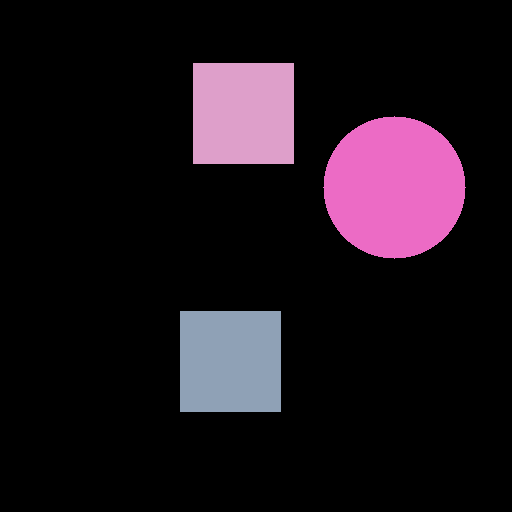circle: (323, 116, 465, 258)
square: (180, 311, 280, 411), (193, 63, 293, 163)
